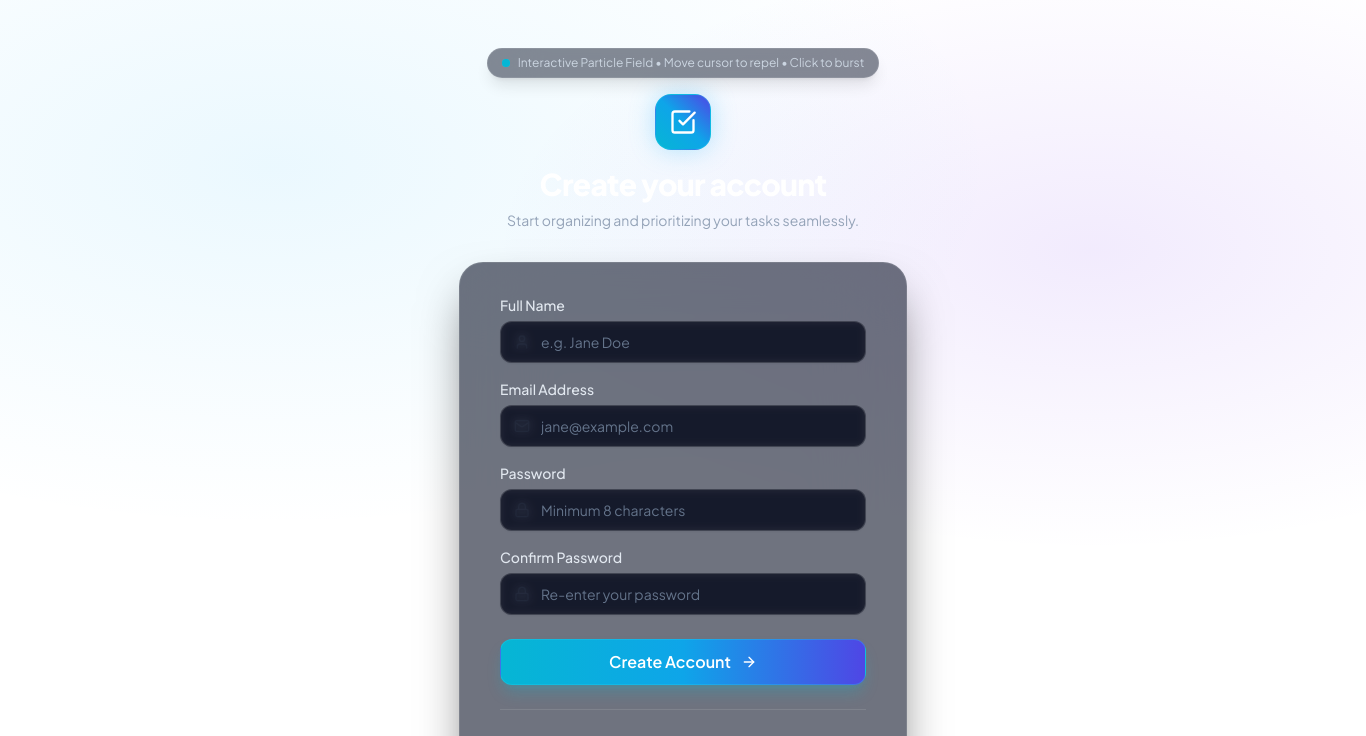
Test: RegisterPage Component › displays error banner if email already exists
The width and height of the screenshot is (1366, 736).
Type "Alice Duplicate" into the field labelled "Full Name" at (683, 342), box x1=500 y1=321 x2=866 y2=363
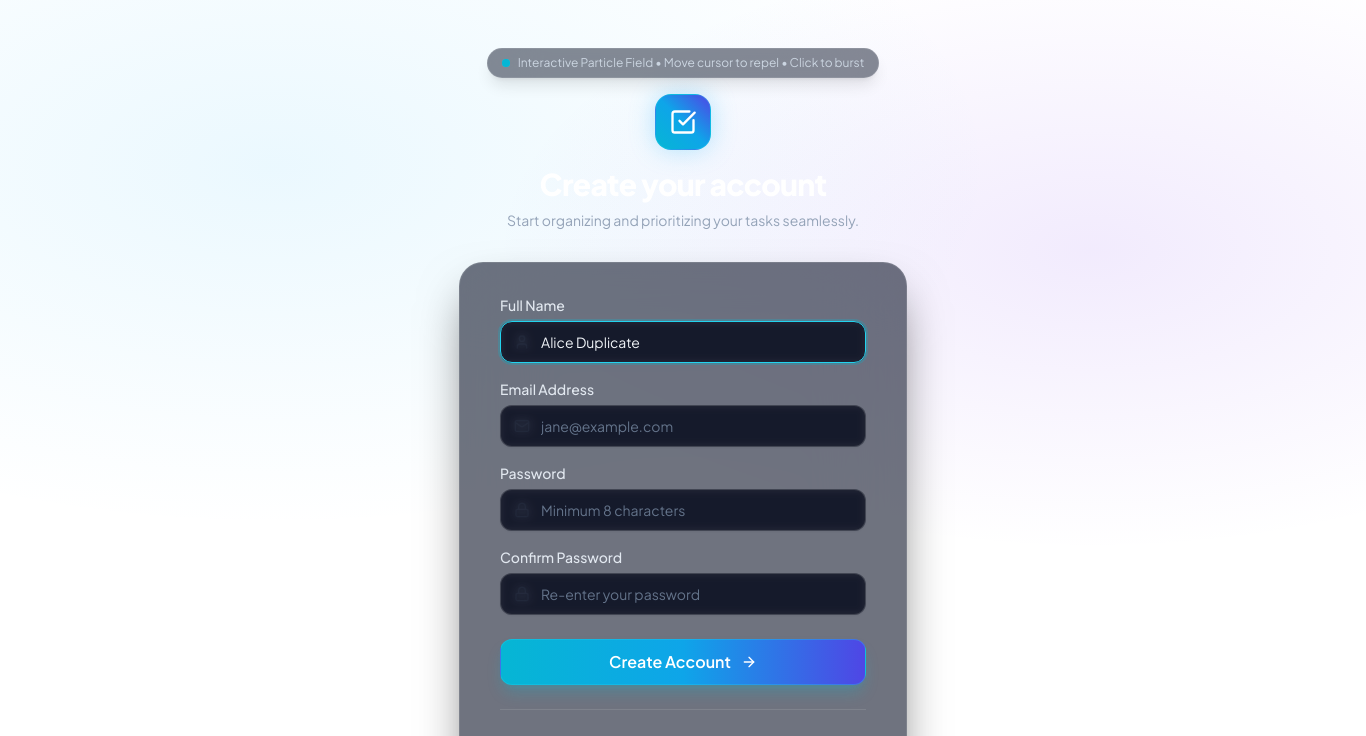
Type "existing@example.com" into the field labelled "Email Address" at (683, 426), box x1=500 y1=405 x2=866 y2=447
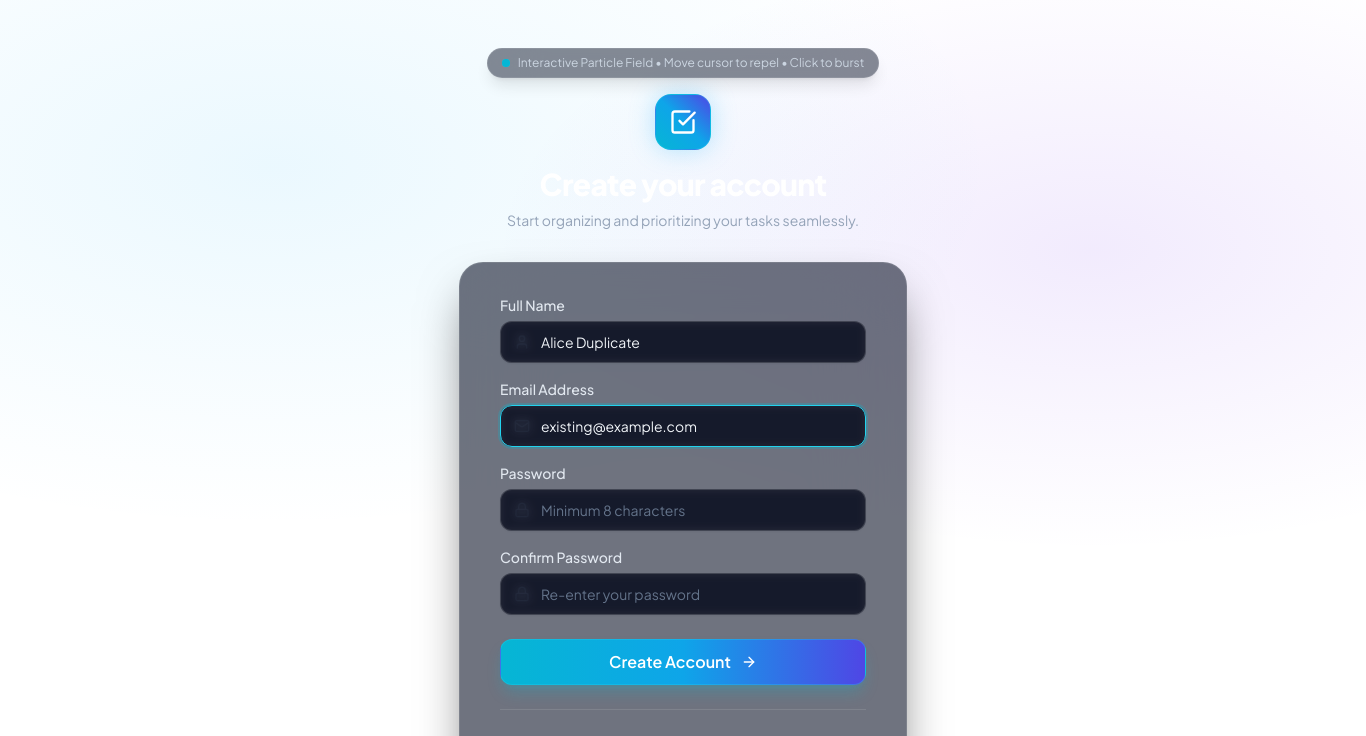
Type "password123" into the password field labelled "Password" at (683, 510), box x1=500 y1=489 x2=866 y2=531
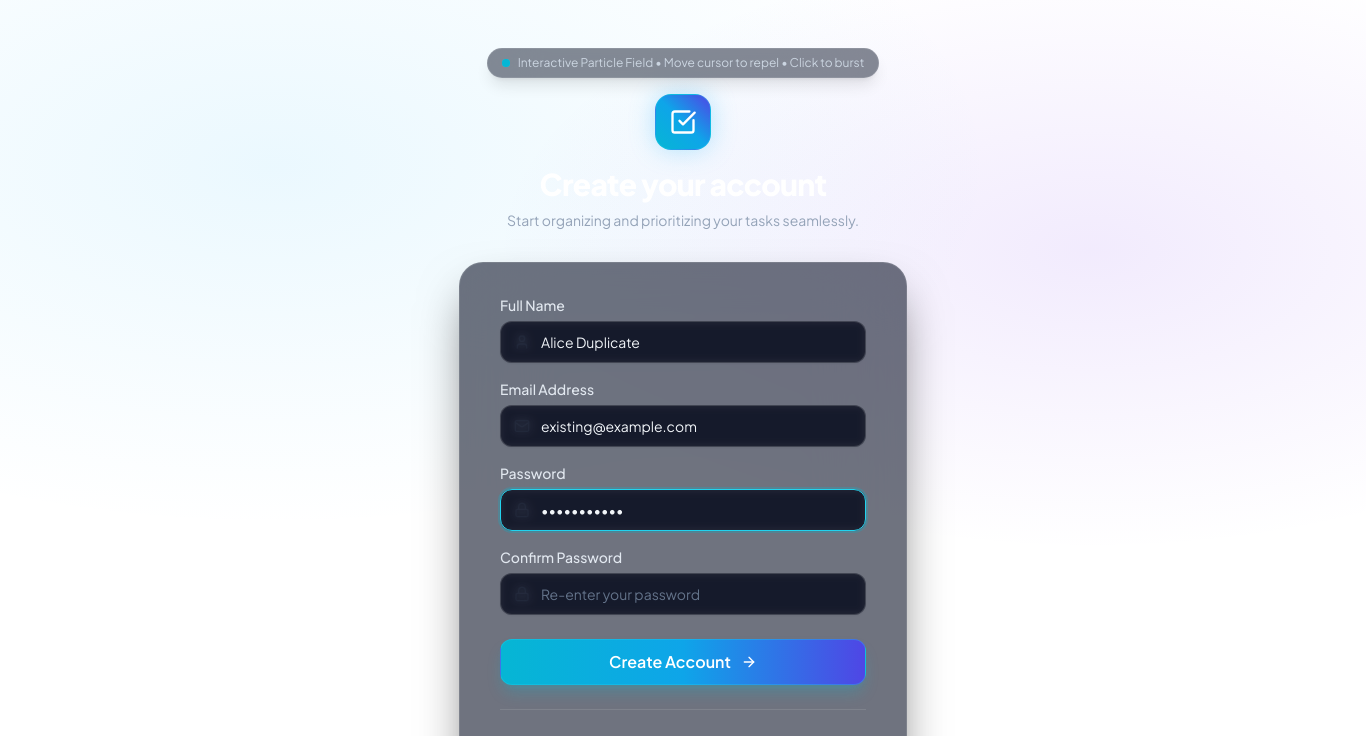
Type "password123" into the password field labelled "Confirm Password" at (683, 594), box x1=500 y1=573 x2=866 y2=615
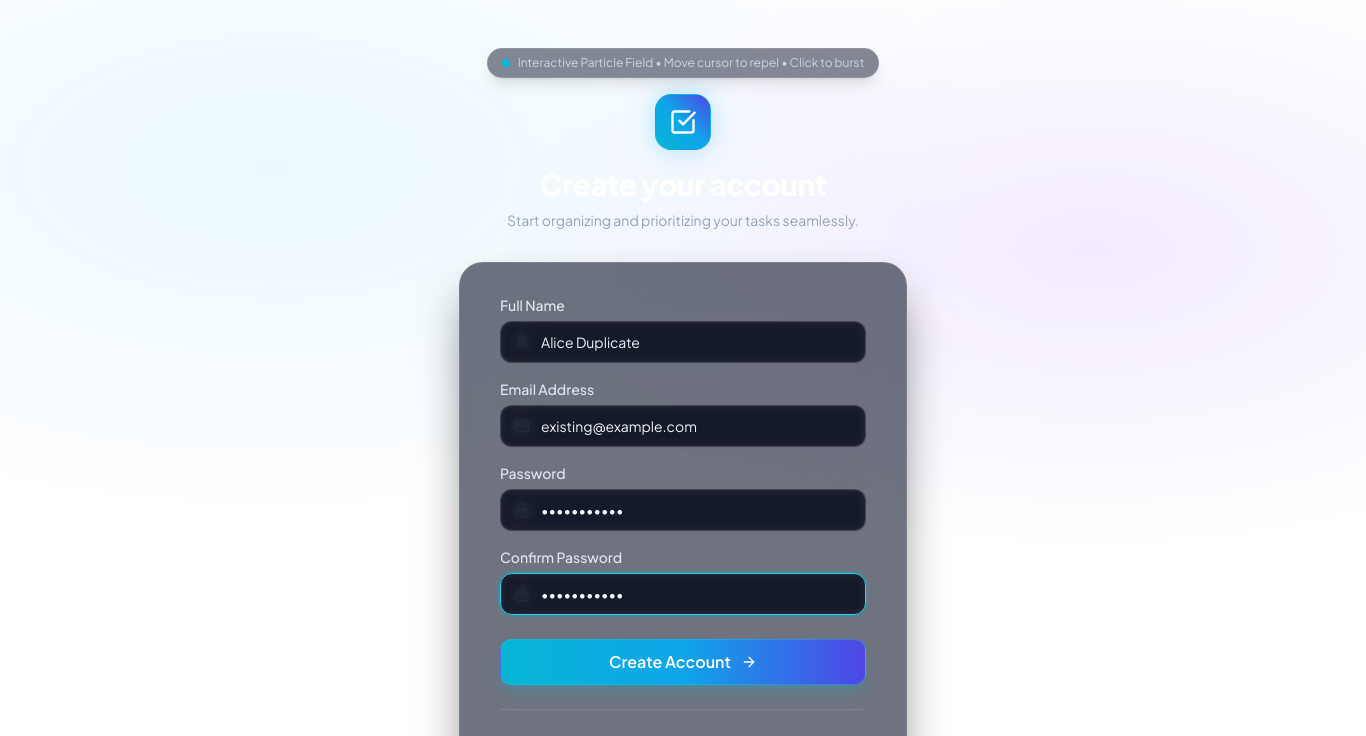
Click the button "Create Account" at (683, 662), box x1=500 y1=639 x2=866 y2=685
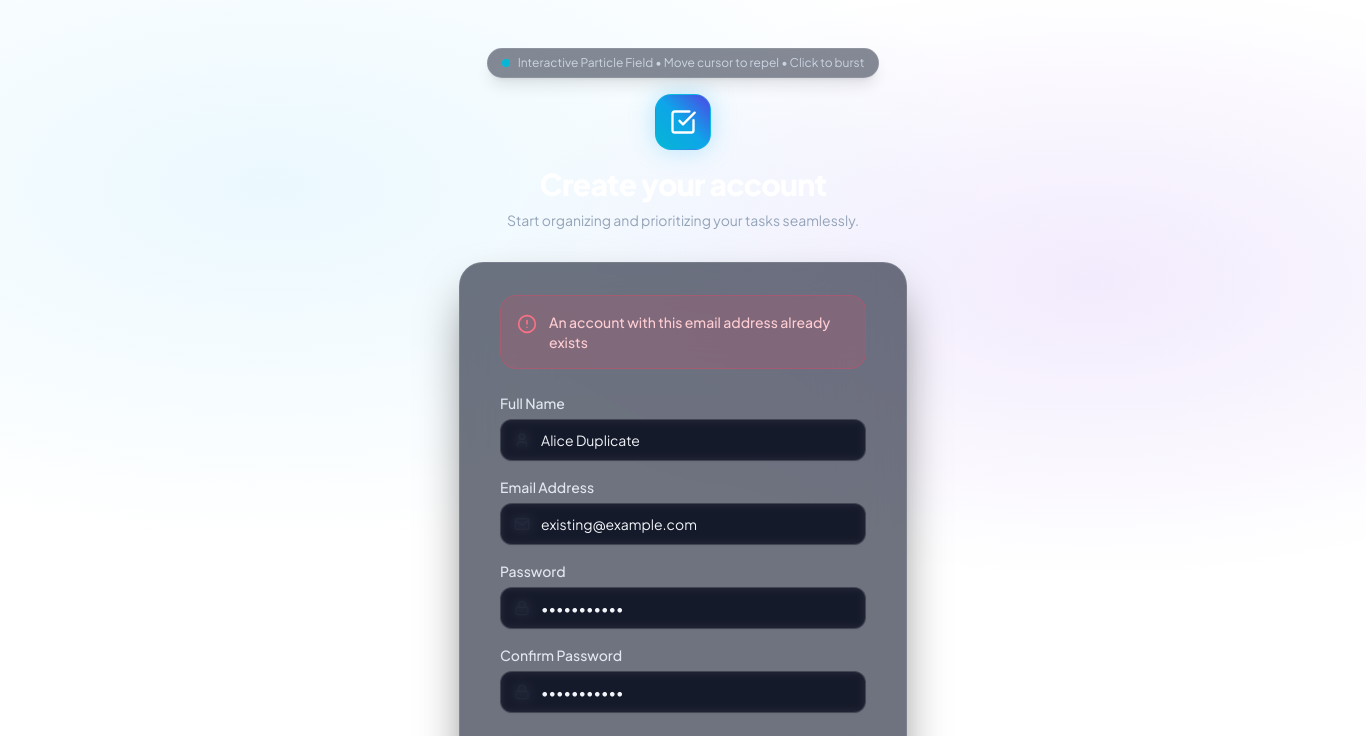
Expected: the text "An account with this email address already exists" is shown, x1=549 y1=312 x2=849 y2=352
